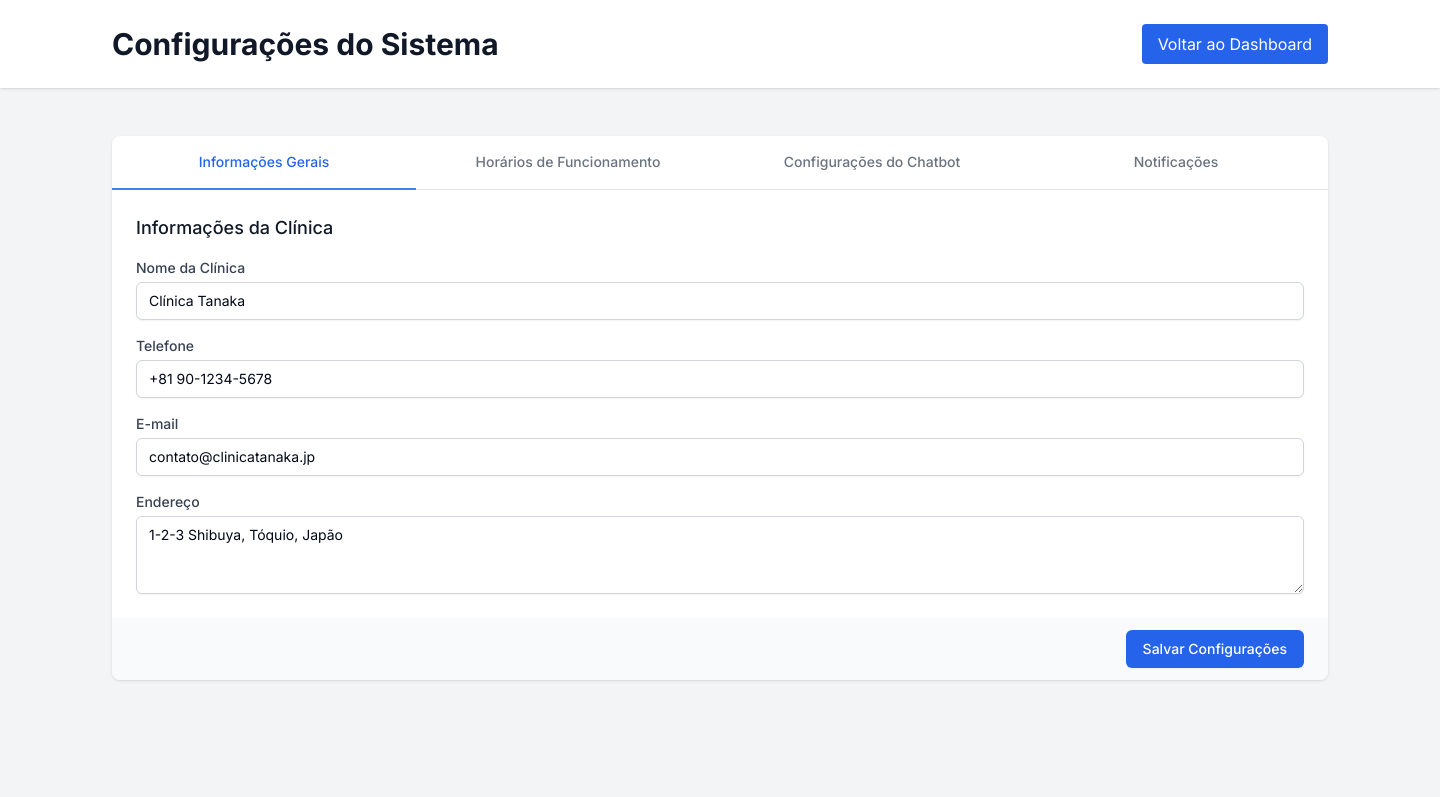
it: ConfiguracoesPage › alterna entre as abas de configuração
Expected: the field labelled "Nome da Clínica" is shown, x1=136 y1=282 x2=1304 y2=320
# Clicar na aba de horários de funcionamento
Click the button "Horários de Funcionamento" at [568, 163], box x1=416 y1=136 x2=720 y2=190
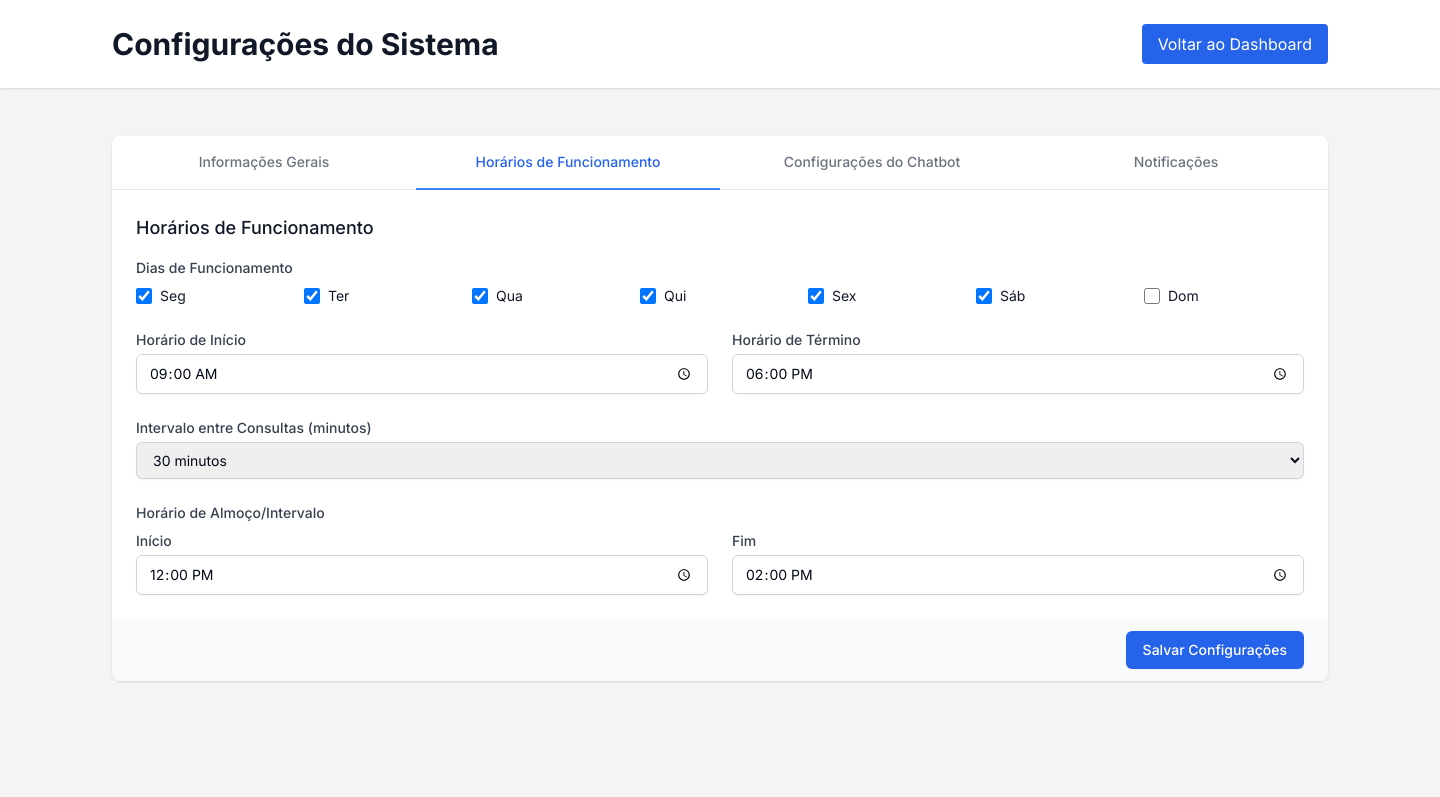
Now the heading "Dias de Funcionamento" is shown, box x1=136 y1=259 x2=293 y2=276
# Clicar na aba de configurações do chatbot
Click the button "Configurações do Chatbot" at [872, 163], box x1=720 y1=136 x2=1024 y2=190
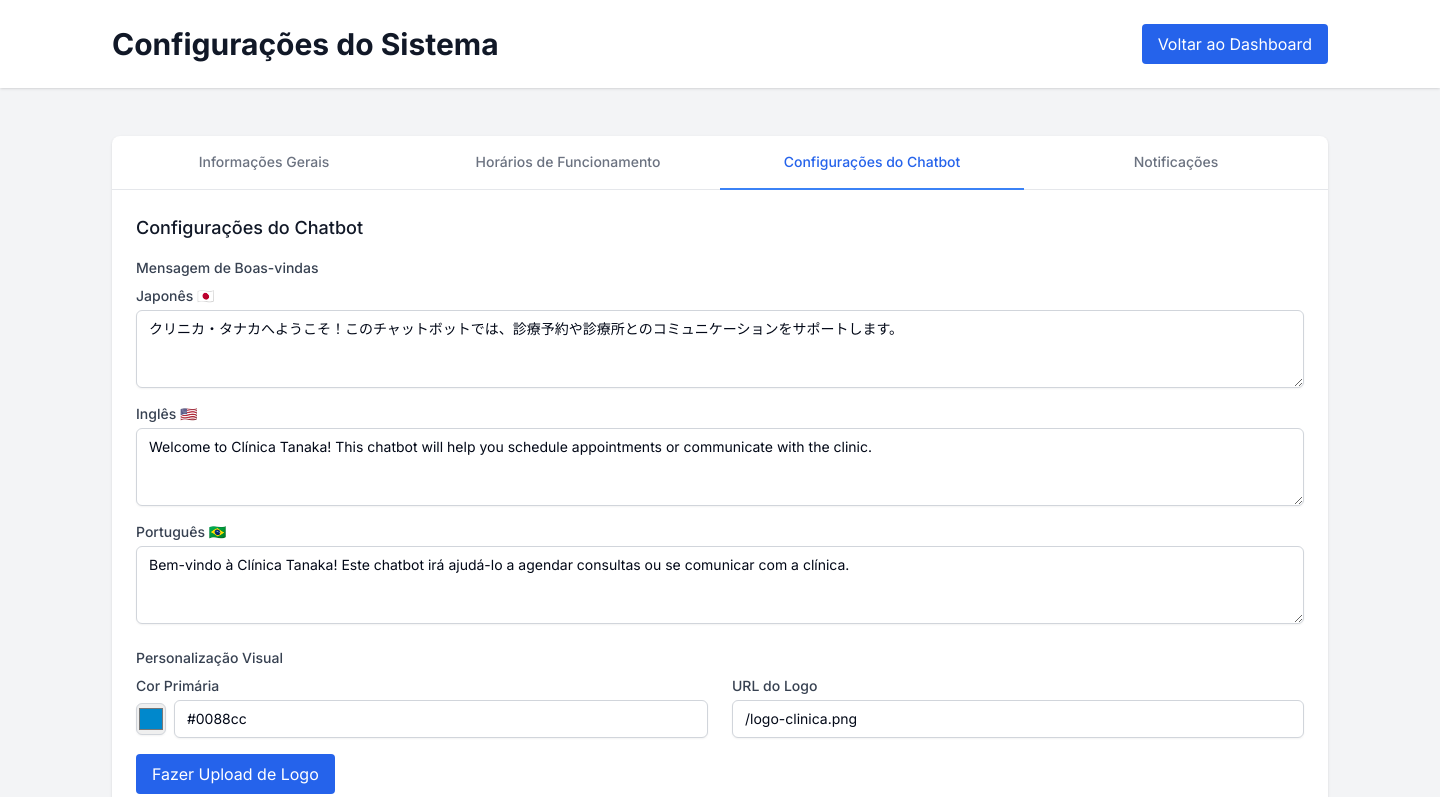
Now the heading "Mensagem de Boas-vindas" is shown, box x1=136 y1=259 x2=318 y2=276
# Clicar na aba de notificações
Click the button "Notificações" at [1176, 163], box x1=1024 y1=136 x2=1328 y2=190
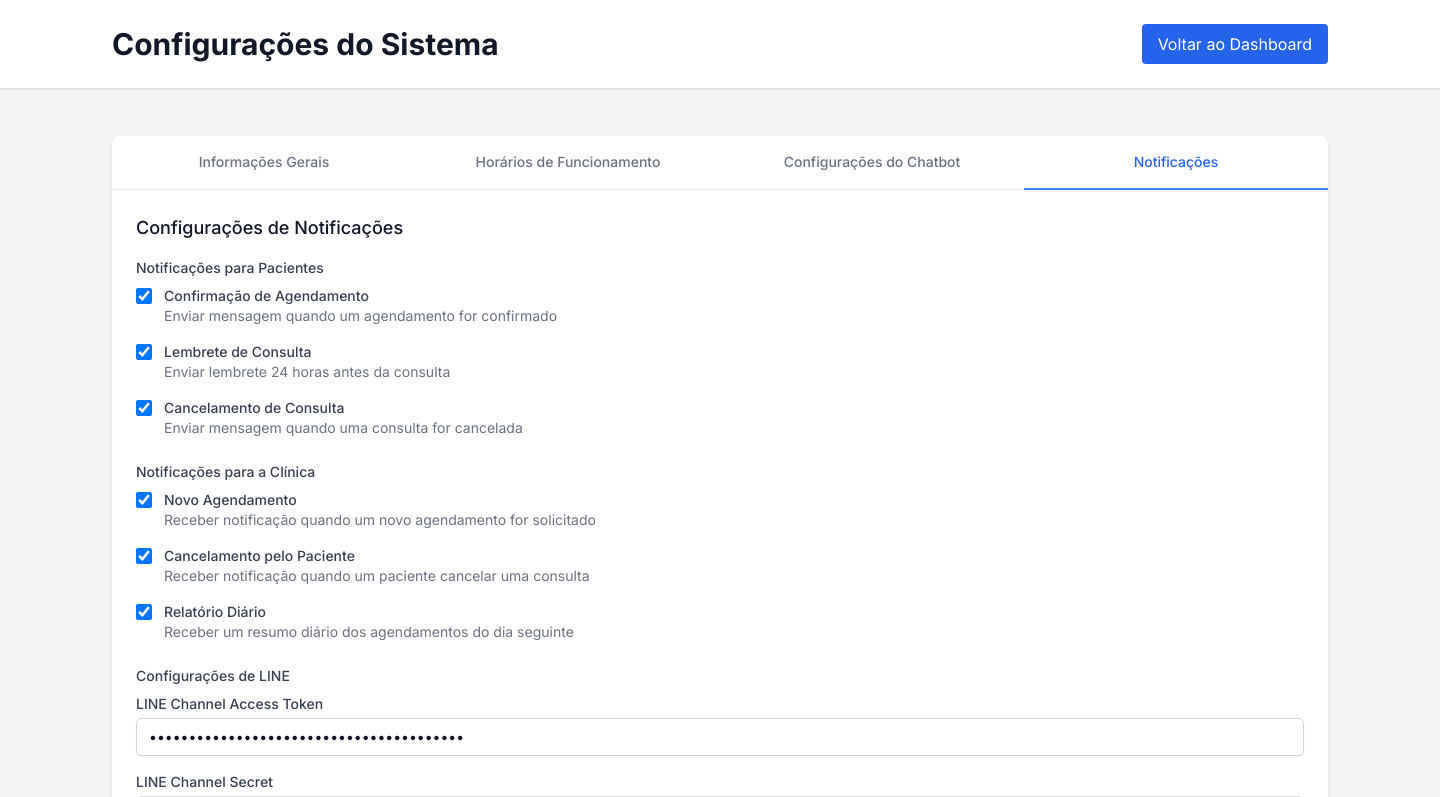
Now the heading "Notificações para Pacientes" is shown, box x1=136 y1=259 x2=324 y2=276
